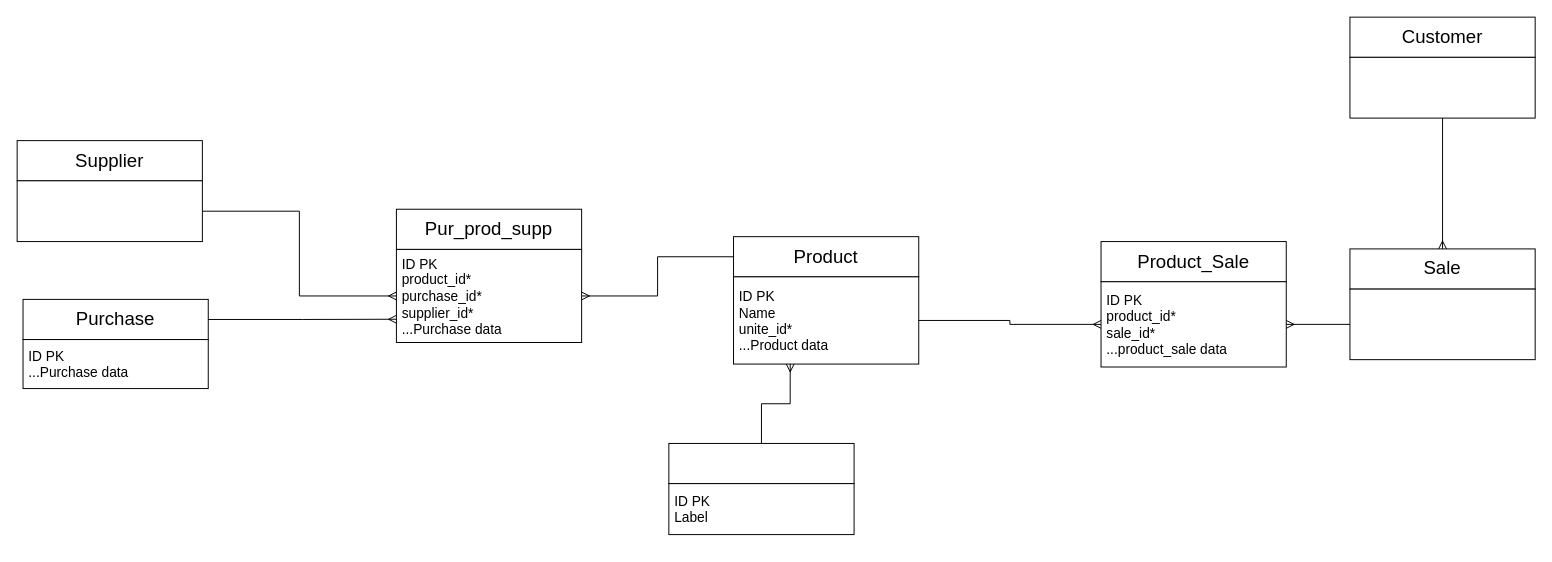
This 1552x562 diagram has some shape labels left out. The box of each missing label's shape, as (x1, y1, x2, y2) in pixels:
ID PK customer_id* ...Sale data: (1349, 288, 1535, 360)
ID PK Name ...Customer data: (1349, 56, 1535, 118)
ID PK Name ...Purchase data: (16, 180, 202, 242)
Unite: (668, 442, 854, 484)
